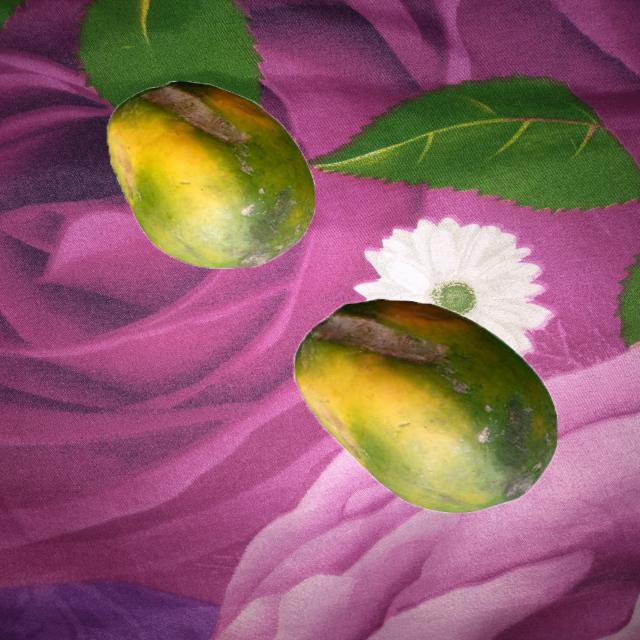Pepaya rippen: (281, 298, 565, 525), (94, 70, 319, 271)
